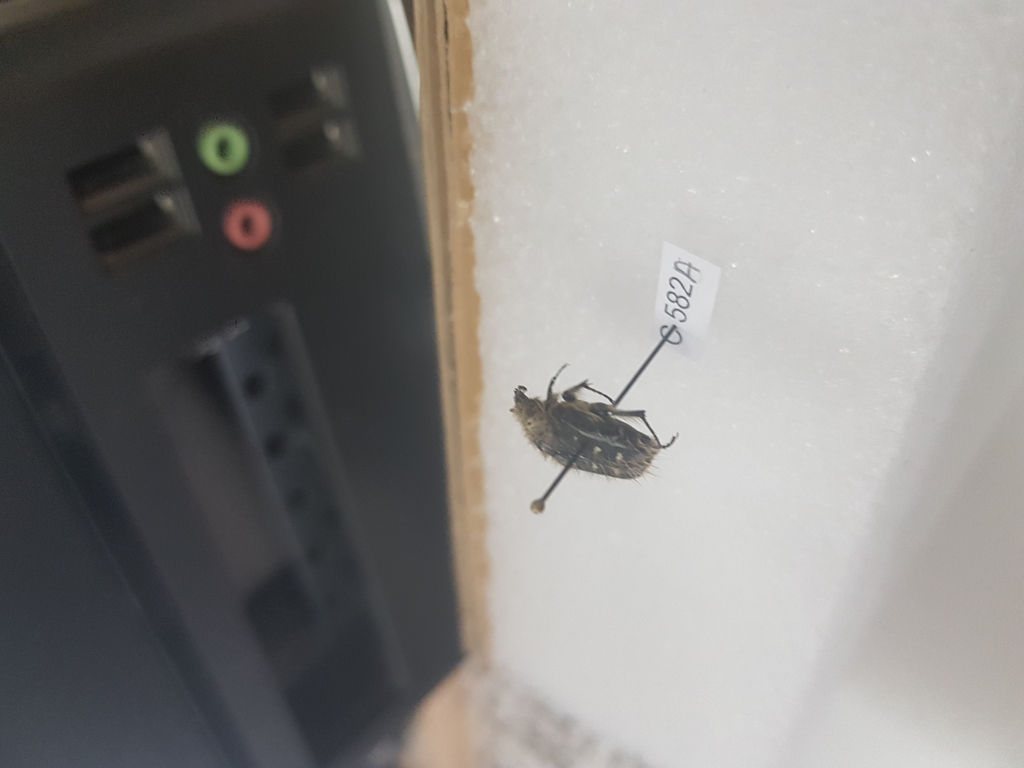Tropinota_hirta: (506, 364, 681, 486)
